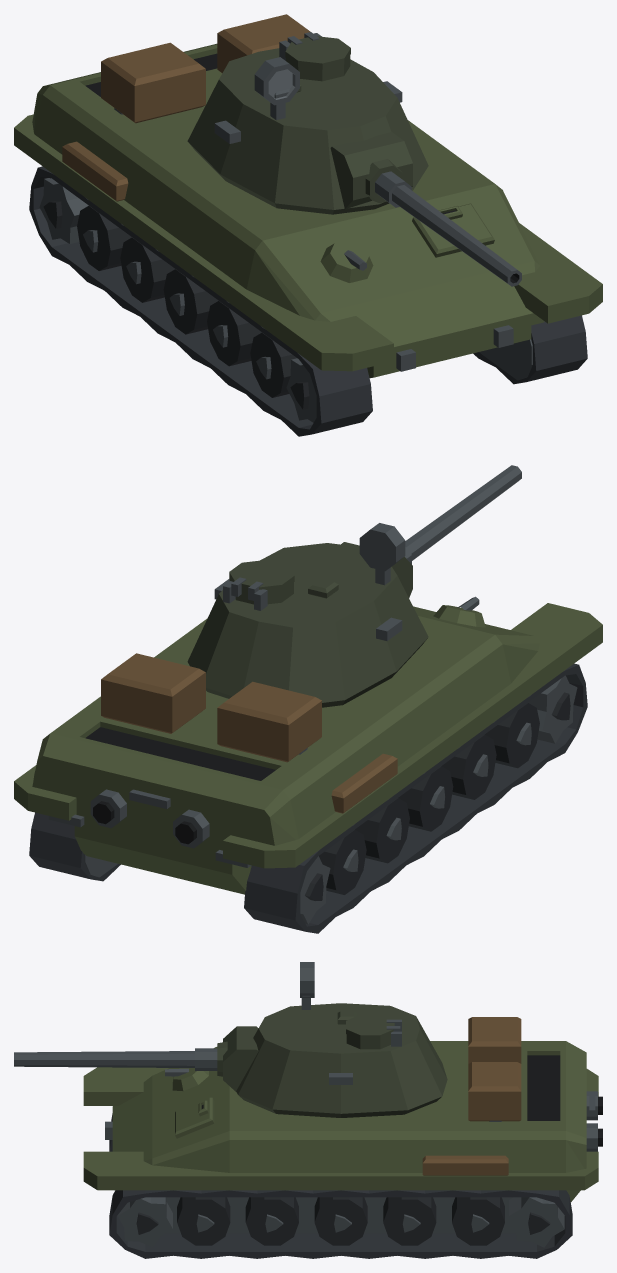
The model's file is medium-tank-65da6b.glb.
The picture shows the model from 3 angles, top to bottom: view 1: azimuth 30°, elevation 25°; view 2: azimuth 150°, elevation 25°; view 3: azimuth 270°, elevation 25°; orthographic projection. The views are drawn at different scales.
Parts seen in each view (by area): view 1: tank-hull, turret-shell, stowage-mesh, gun-mesh, wheel-r3-mesh, wheel-r5-mesh, wheel-r4-mesh, wheel-r2-mesh, wheel-r1-mesh, sprocket-r-mesh, hatch-mesh, idler-r-mesh; view 2: tank-hull, turret-shell, stowage-mesh, gun-mesh, wheel-r3-mesh, wheel-r2-mesh, wheel-r1-mesh, wheel-r4-mesh, wheel-r5-mesh, idler-r-mesh, hatch-mesh, sprocket-r-mesh; view 3: tank-hull, turret-shell, stowage-mesh, gun-mesh, wheel-l2-mesh, wheel-l3-mesh, wheel-l4-mesh, wheel-l1-mesh, wheel-l5-mesh, sprocket-l-mesh, idler-l-mesh, hatch-mesh.
Boxes of the visible parts, box(x1,y1,x2,y2) form: tank-hull: box(14, 43, 602, 436); turret-shell: box(187, 33, 428, 214); stowage-mesh: box(62, 14, 310, 201); gun-mesh: box(330, 132, 521, 286); wheel-r3-mesh: box(163, 269, 218, 334); wheel-r5-mesh: box(77, 206, 131, 270); wheel-r4-mesh: box(120, 237, 174, 302); wheel-r2-mesh: box(207, 301, 261, 366); wheel-r1-mesh: box(250, 332, 296, 397); sprocket-r-mesh: box(39, 178, 88, 243); hatch-mesh: box(285, 32, 350, 69); idler-r-mesh: box(286, 358, 316, 422); tank-hull: box(14, 596, 602, 933); turret-shell: box(187, 523, 428, 707); stowage-mesh: box(101, 653, 397, 813); gun-mesh: box(341, 465, 521, 597); wheel-r3-mesh: box(398, 766, 453, 831); wheel-r2-mesh: box(441, 734, 496, 799); wheel-r1-mesh: box(485, 703, 539, 768); wheel-r4-mesh: box(355, 798, 409, 863); wheel-r5-mesh: box(319, 829, 366, 894); idler-r-mesh: box(528, 675, 577, 743); hatch-mesh: box(229, 560, 294, 600); sprocket-r-mesh: box(300, 856, 330, 924); tank-hull: box(83, 1041, 602, 1258); turret-shell: box(236, 962, 447, 1117); stowage-mesh: box(422, 1017, 521, 1175); gun-mesh: box(14, 1026, 258, 1091); wheel-l2-mesh: box(245, 1197, 298, 1245); wheel-l3-mesh: box(314, 1197, 367, 1245); wheel-l4-mesh: box(383, 1197, 436, 1245); wheel-l1-mesh: box(177, 1197, 230, 1245); wheel-l5-mesh: box(452, 1197, 504, 1245); sprocket-l-mesh: box(509, 1197, 564, 1247); idler-l-mesh: box(117, 1197, 172, 1247); hatch-mesh: box(346, 1014, 400, 1039).
Bounding box in the file's own units: 3 × 2.85 × 6.86.
